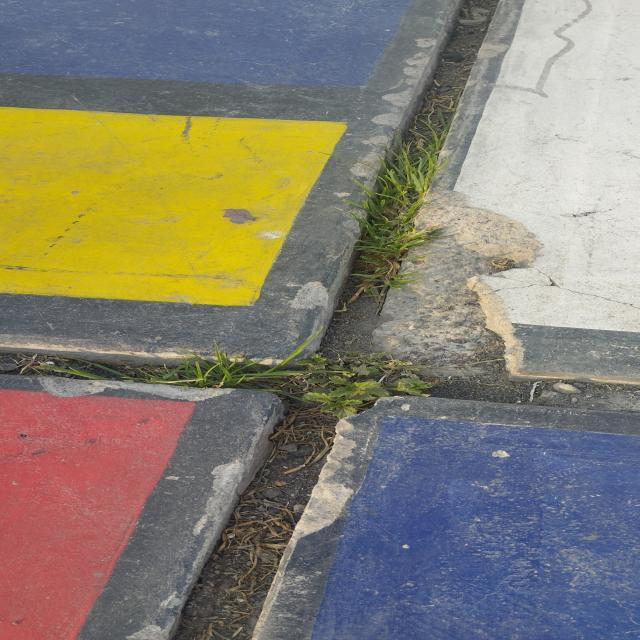hole: (332, 189, 552, 390)
